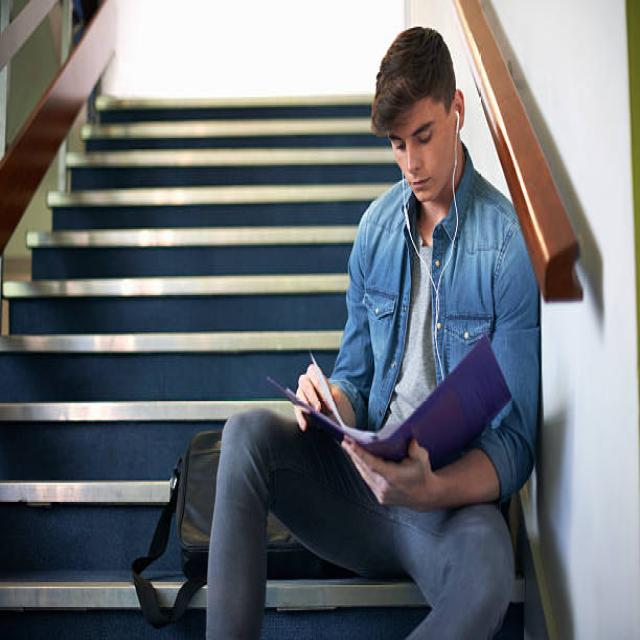Earphone: (401, 108, 460, 376)
